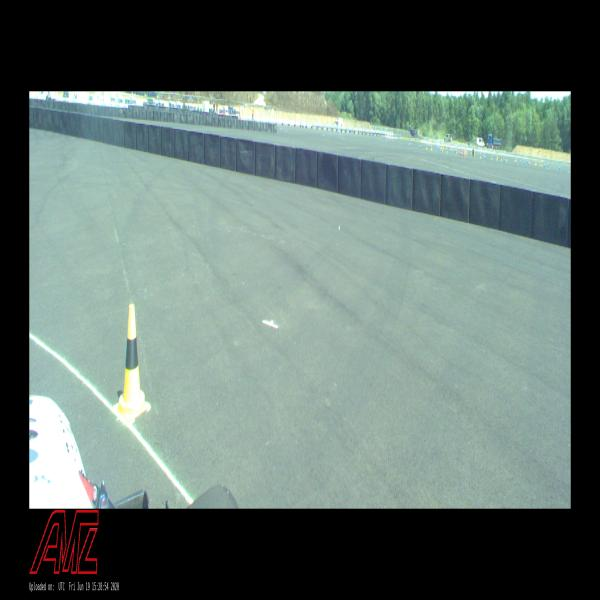yellow_cone: (117, 305, 147, 419)
